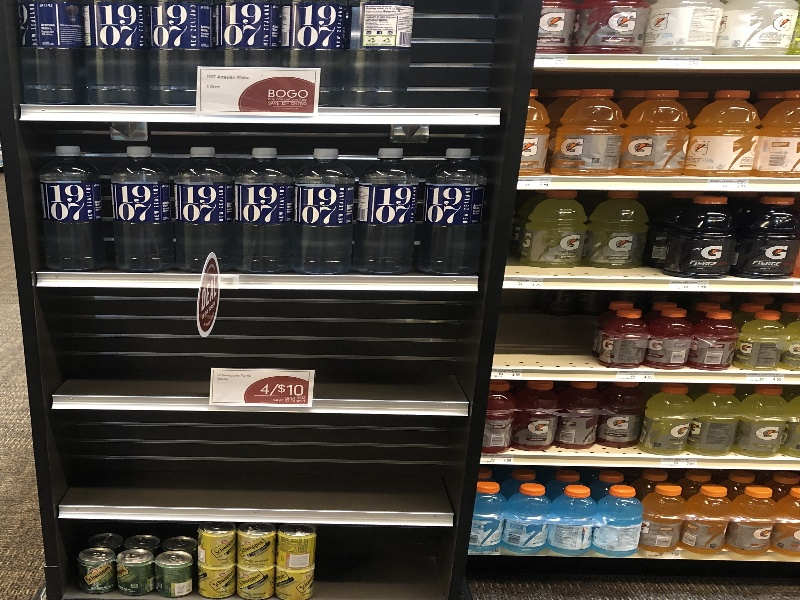void: (38, 294, 474, 398), (49, 414, 463, 509), (324, 532, 439, 600), (501, 296, 594, 365)
